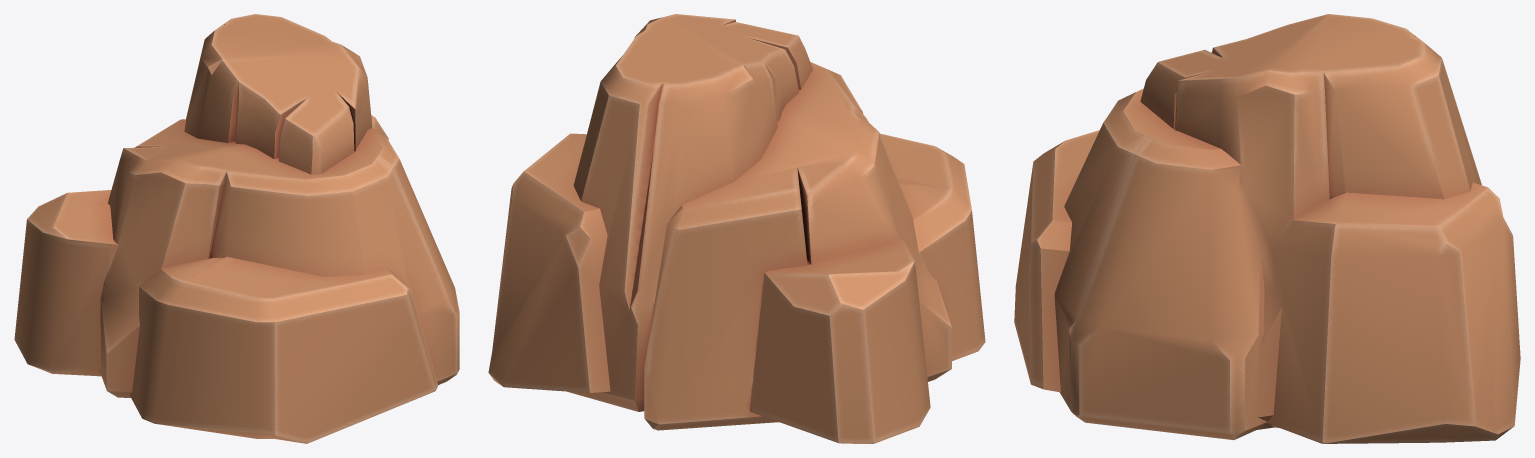
The model's file is rock_2.glb.
3 views of the same model, side by side, from view 1: azimuth 30°, elevation 25°; view 2: azimuth 150°, elevation 25°; view 3: azimuth 270°, elevation 25° (orthographic). The views are drawn at different scales.
Visible parts, largest first — view 1: Rock_2; view 2: Rock_2; view 3: Rock_2.
Part boxes in pixels (<box>): Rock_2: <box>14,14,459,443</box>; Rock_2: <box>488,14,985,443</box>; Rock_2: <box>1014,14,1520,443</box>.
Size of the model in its own units: 15.99 by 12.36 by 16.47.
1 material, 1 textured.
